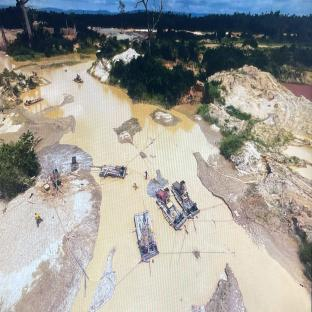ProcessingEquipment: (153, 186, 186, 233), (133, 209, 161, 264), (169, 180, 201, 221), (98, 163, 133, 181), (47, 164, 66, 191), (67, 155, 83, 173), (23, 96, 47, 106)
